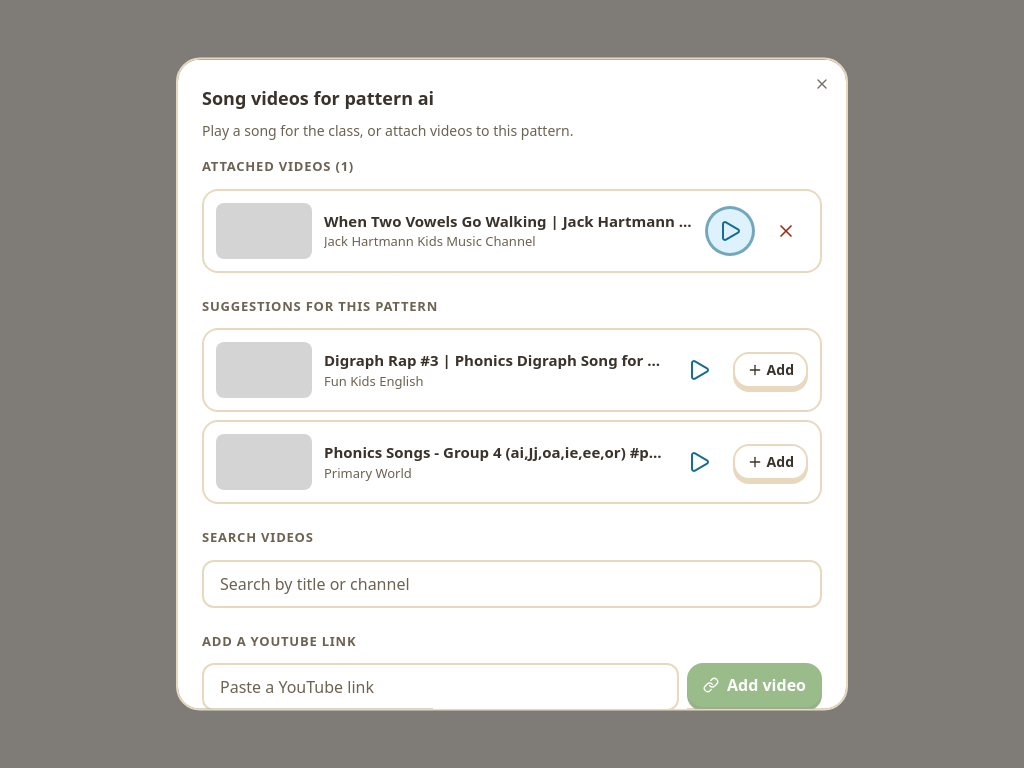
Test: PatternVideoModal (editable) › shows a no-match message for an empty search result
In the field named "Search videos by title or channel": (512, 583) [202,559,822,607], type "quokka"
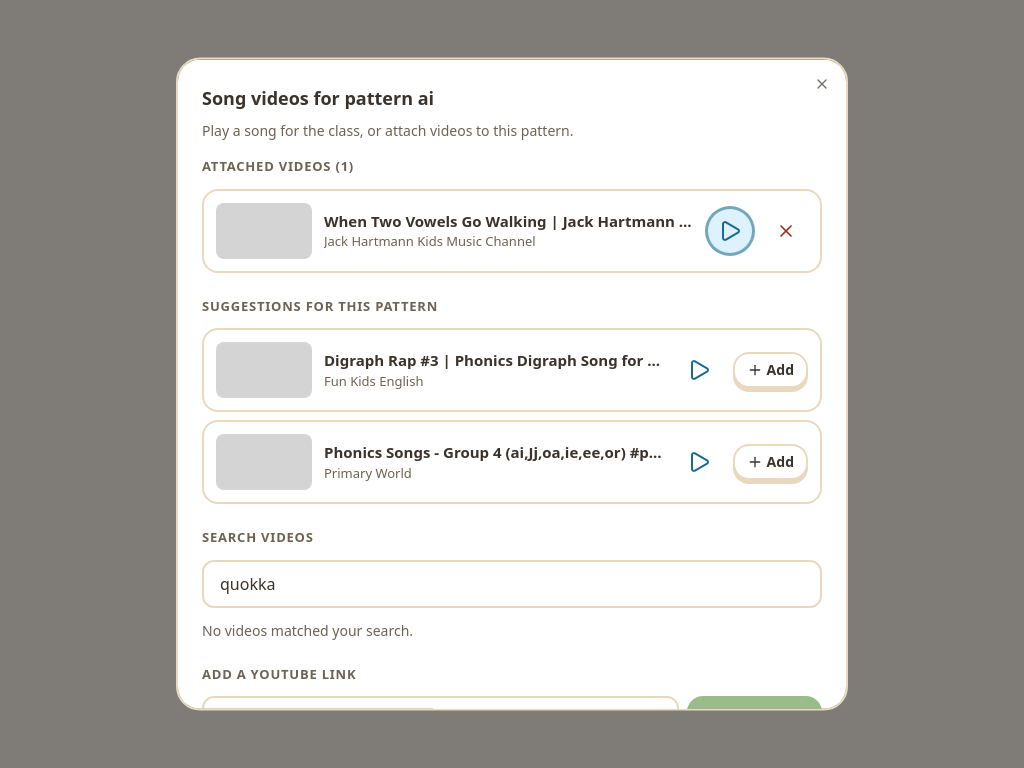
Now the text "No videos matched your search." is shown, box [202,620,413,639]
